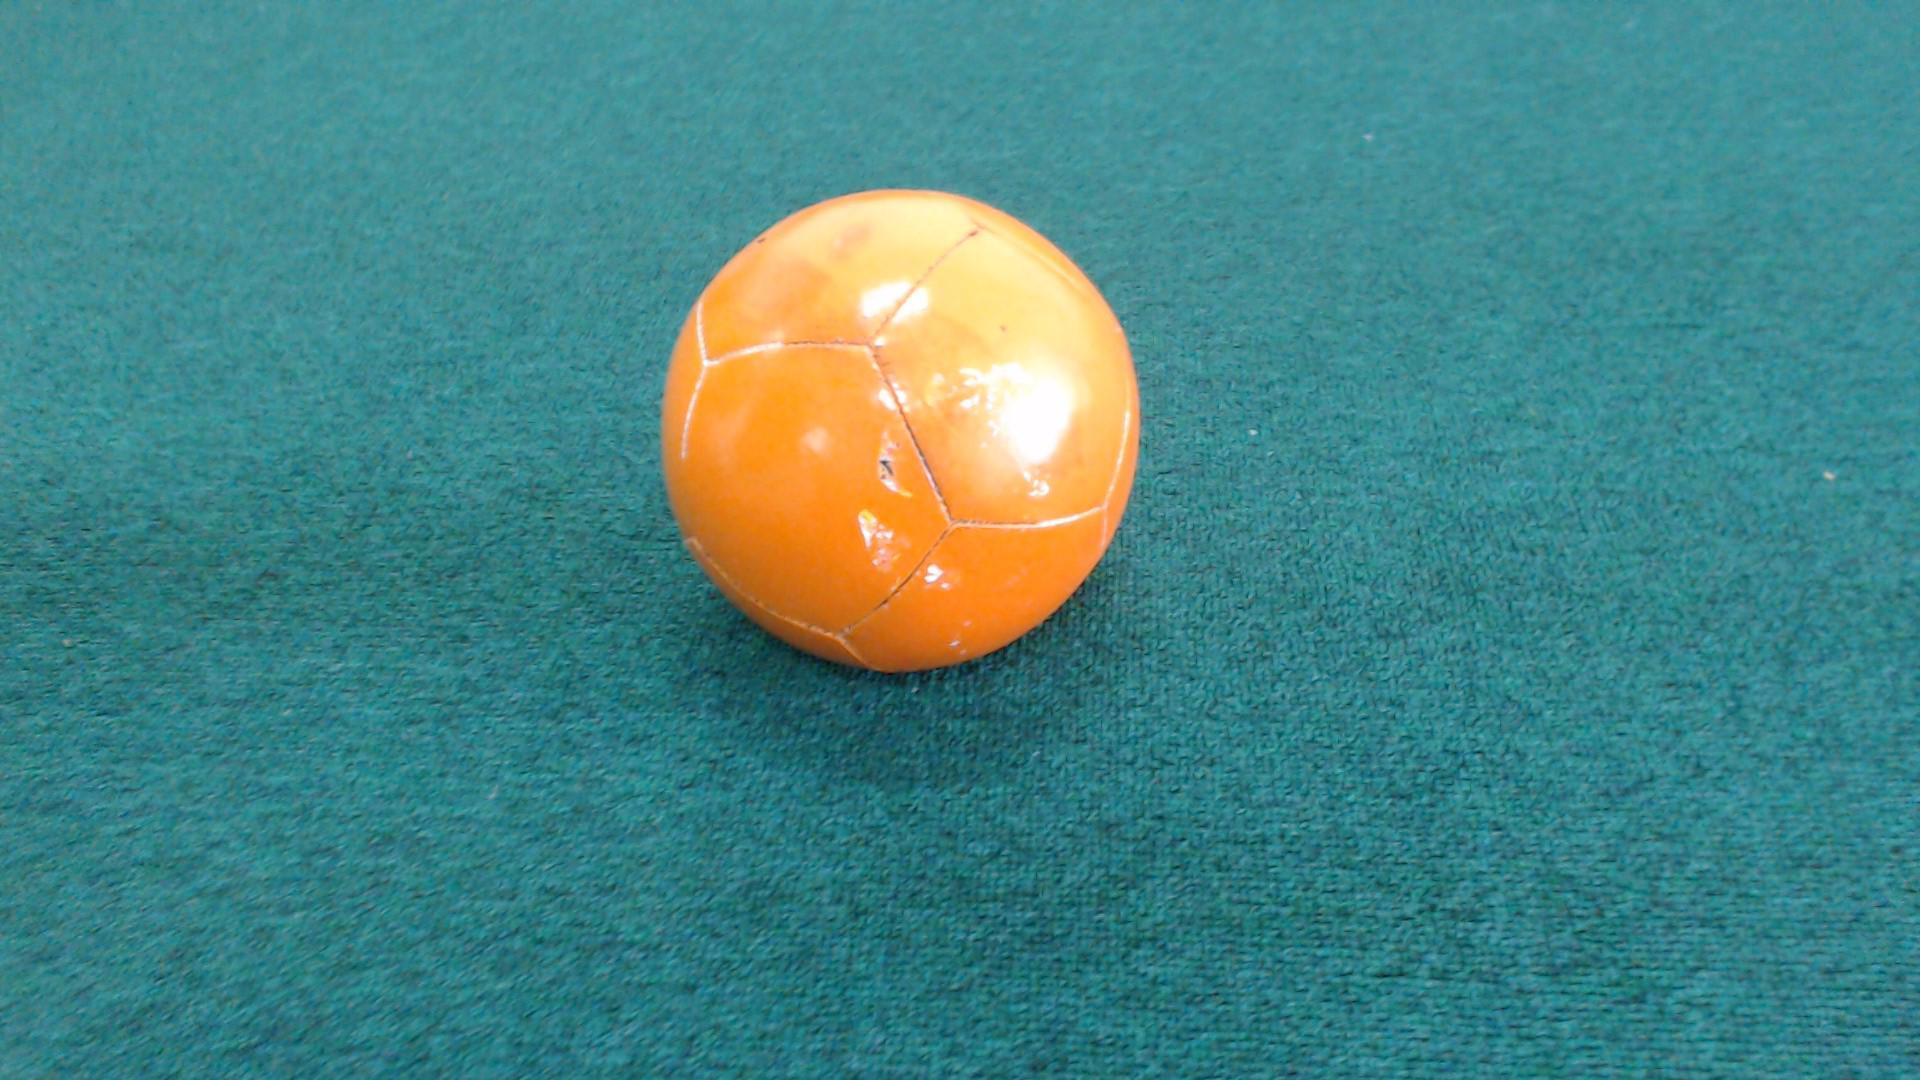bola: (618, 154, 1196, 703)
